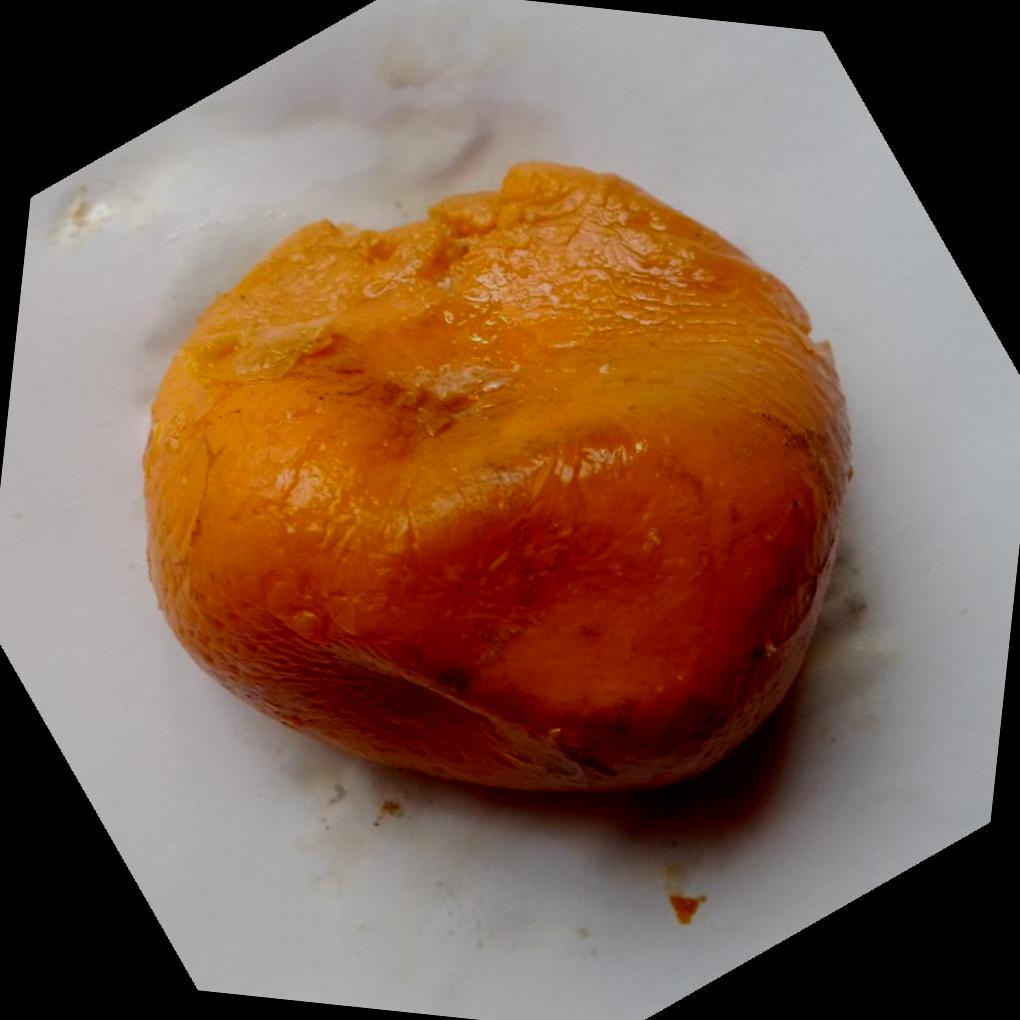FreshOrange: (142, 157, 856, 796)
